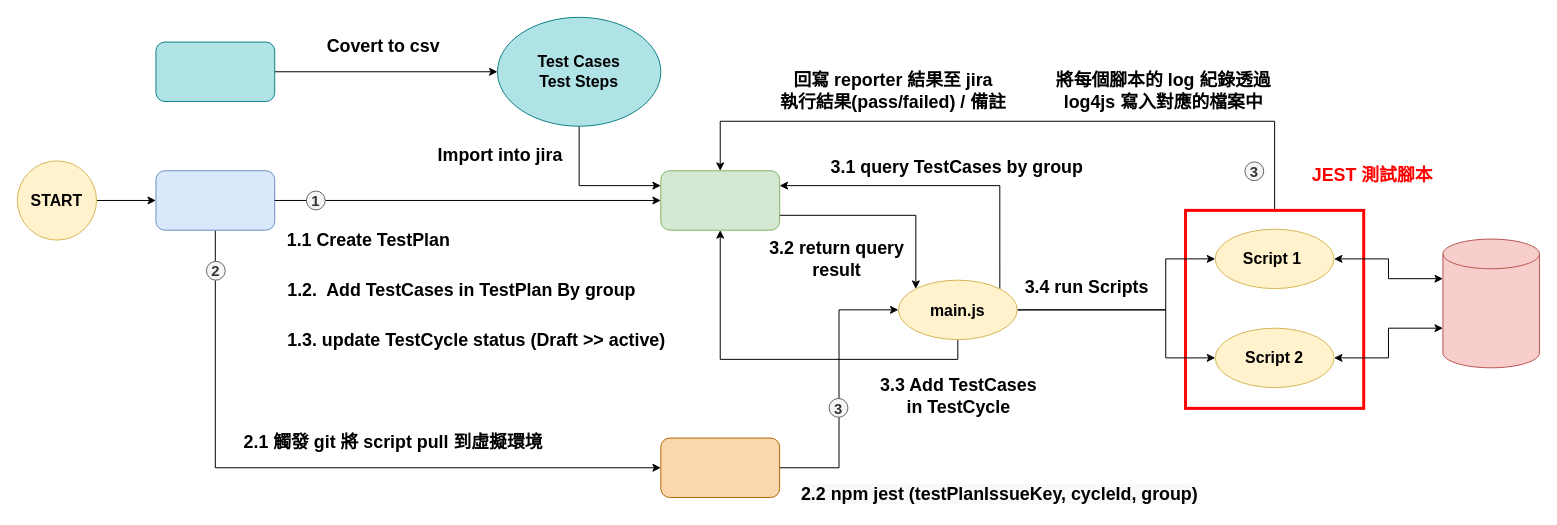
Some shapes in this 1557 by 525 pixel diagram are drawn without their labels. The centre of each missing label's shape, as x and y in pixels:
"B08 平台" goes at point (1490, 303).
"Excel" goes at point (215, 71).
"Git" goes at point (720, 467).
"Jenkins" goes at point (215, 200).
"議題管理平台" goes at point (720, 200).
